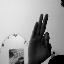f: (27, 12, 52, 61)
